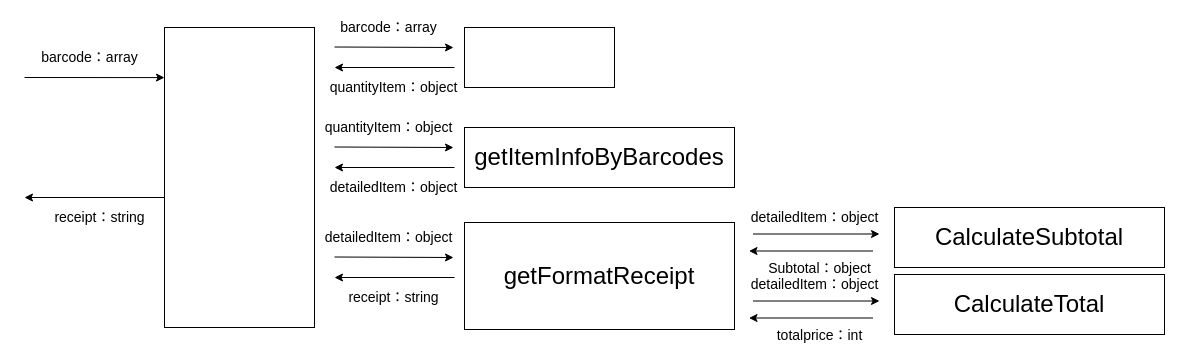
The diagram is 1182 pixels wide and 362 high, and some of its shapes have lost their labels. Each missing label, with the centre of its shape:
getQuantity: the point at 539,57
printReceipt: the point at 239,177
